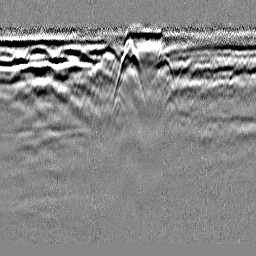cavity: (111, 37, 145, 103)
